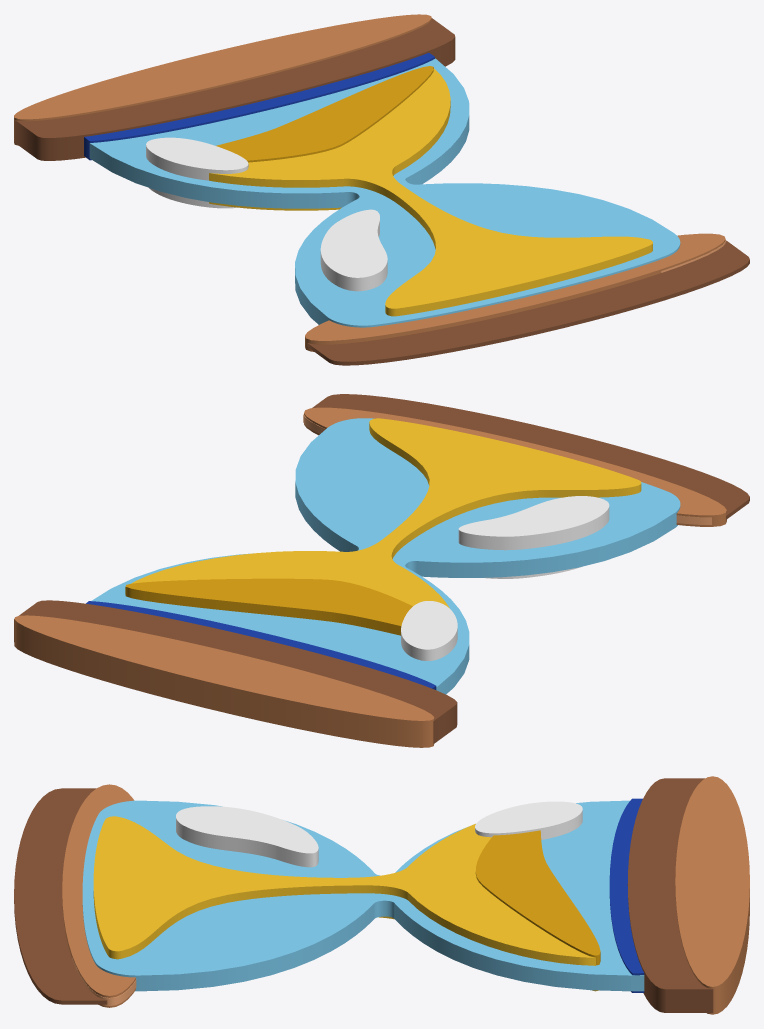
Rendered from emoji_u23f3.glb.
The picture shows the model from 3 angles, top to bottom: view 1: azimuth 30°, elevation 25°; view 2: azimuth 150°, elevation 25°; view 3: azimuth 270°, elevation 25°; orthographic projection. The views are drawn at different scales.
Visible parts, largest first — view 1: emoji_u23f3; view 2: emoji_u23f3; view 3: emoji_u23f3.
Boxes of the visible parts, x1,y1,x2,y2 form: emoji_u23f3: [14, 14, 749, 365]; emoji_u23f3: [14, 394, 749, 747]; emoji_u23f3: [14, 776, 749, 1014].
Size of the model in its own units: 0.023 by 0.0022 by 0.0337.
